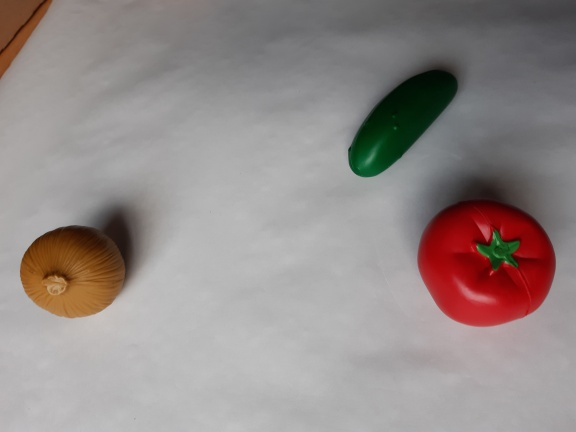cucumber: (343, 57, 465, 184)
onion: (16, 221, 135, 323)
tomato: (411, 194, 567, 338)
